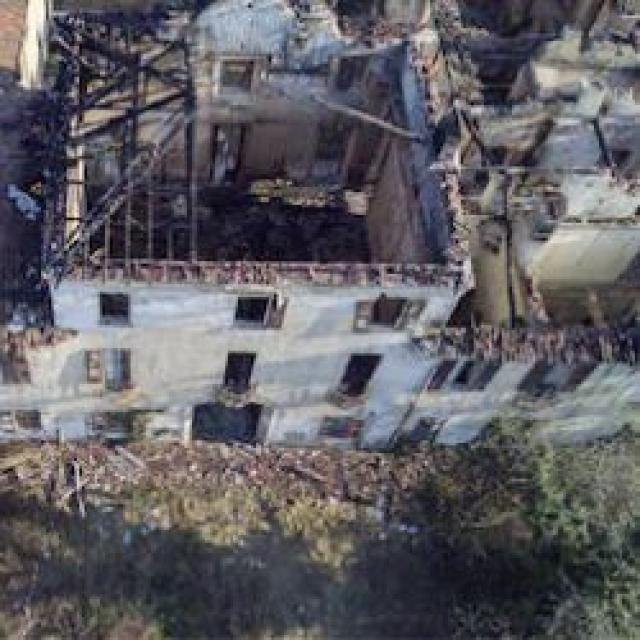collapsed_building: (28, 10, 638, 443)
